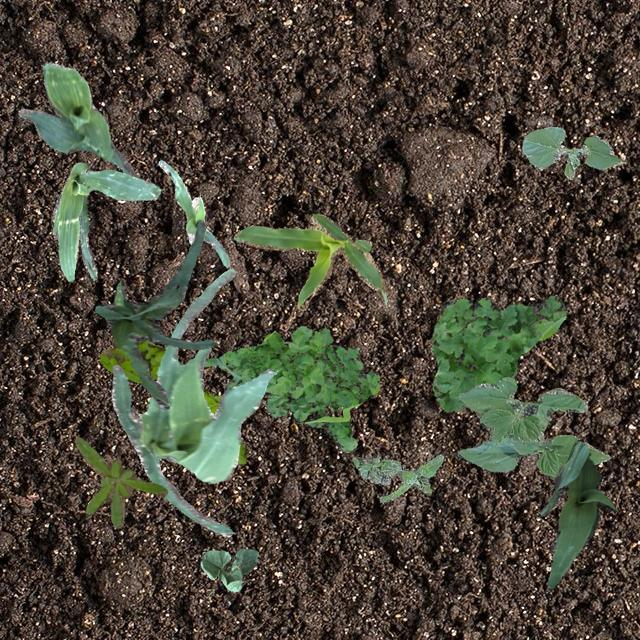crop: (112, 268, 276, 536), (94, 218, 216, 408), (457, 376, 609, 478), (232, 212, 386, 310), (18, 60, 136, 176), (50, 162, 160, 280), (538, 438, 616, 588), (158, 160, 230, 266), (520, 125, 622, 178), (200, 548, 258, 590)
weed: (203, 324, 379, 452), (98, 336, 246, 464), (430, 296, 566, 418), (74, 436, 166, 528), (352, 454, 443, 502)
